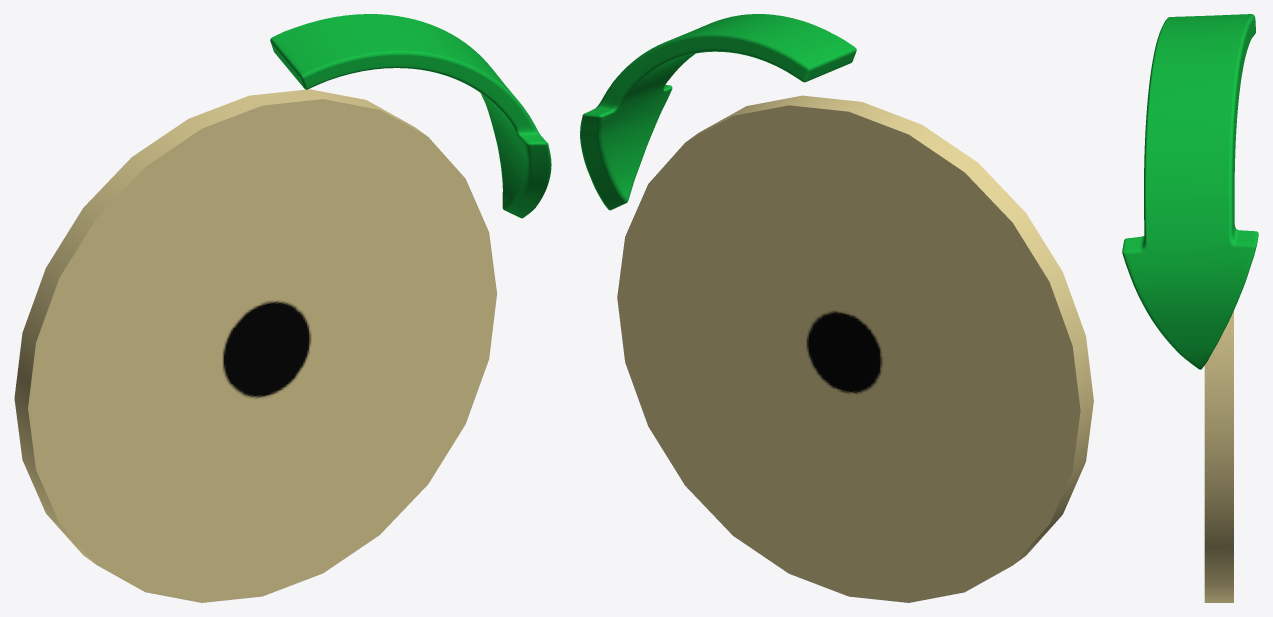
The model's file is plate_yellow.glb.
3 renders of one model, left to right at view 1: azimuth 30°, elevation 25°; view 2: azimuth 150°, elevation 25°; view 3: azimuth 270°, elevation 25°, orthographic. The views are drawn at different scales.
Visible parts, largest first — view 1: node_id38, node_id74; view 2: node_id38, node_id74; view 3: node_id74, node_id38.
Part boxes in pixels (x1=…): node_id38: x1=14, y1=89, x2=496, y2=602; node_id74: x1=270, y1=14, x2=551, y2=218; node_id38: x1=617, y1=95, x2=1093, y2=602; node_id74: x1=580, y1=14, x2=856, y2=210; node_id74: x1=1122, y1=14, x2=1258, y2=369; node_id38: x1=1204, y1=311, x2=1233, y2=602.
Size of the model in its own units: 0.5501 by 0.5681 by 0.1193.
2 materials, 2 textured.
